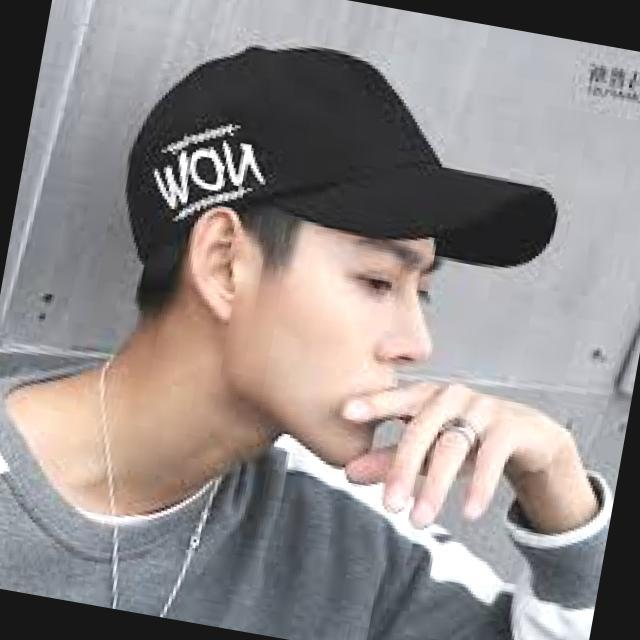cap: (82, 1, 587, 380)
